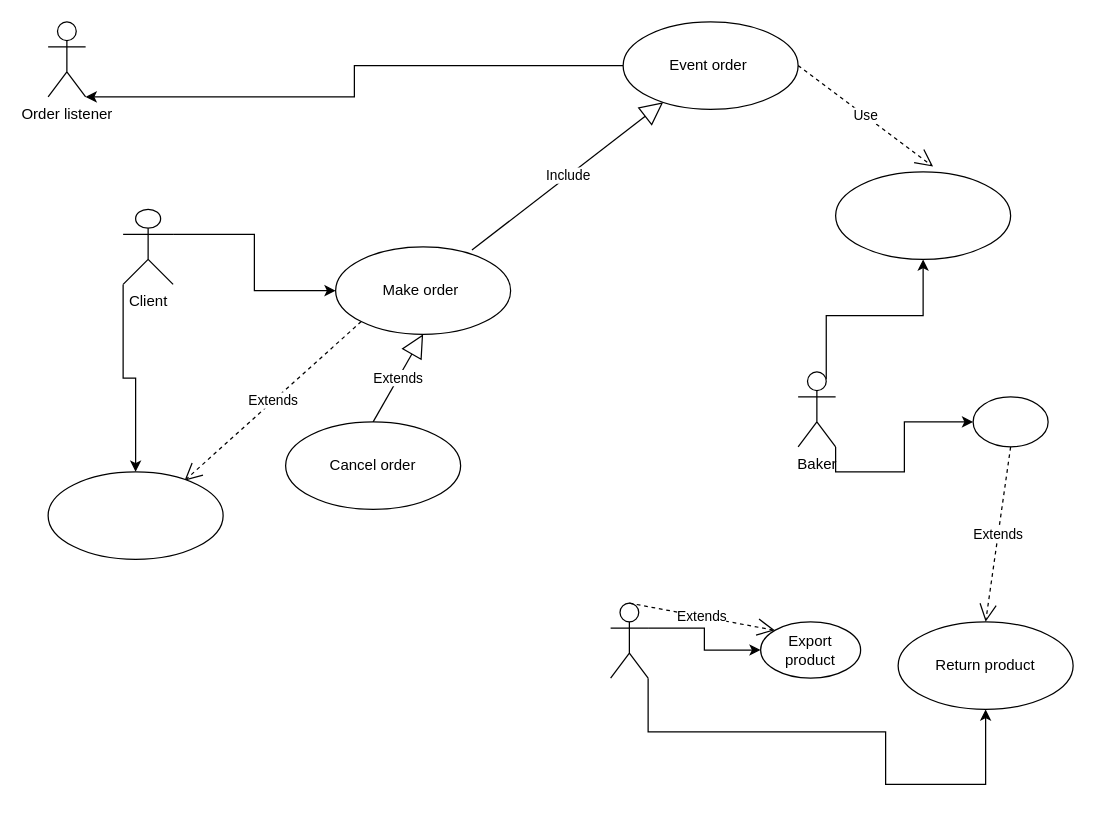
This 1095x816 diagram has some shape labels left out. Each missing label, with the box of its shape:
Import products: (972, 396, 1048, 447)
Make pizza: (834, 171, 1011, 259)
Product importer: (609, 602, 648, 678)
Show menu: (47, 471, 223, 559)
